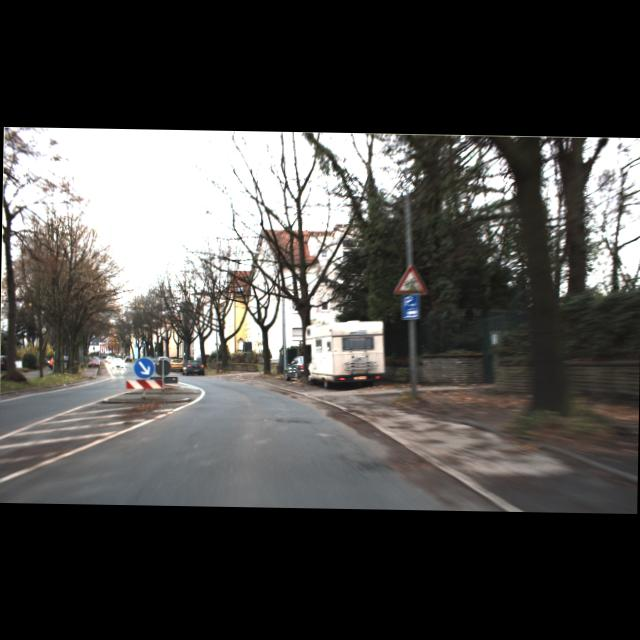danger: (392, 263, 428, 294)
mandatory: (132, 358, 154, 378)
